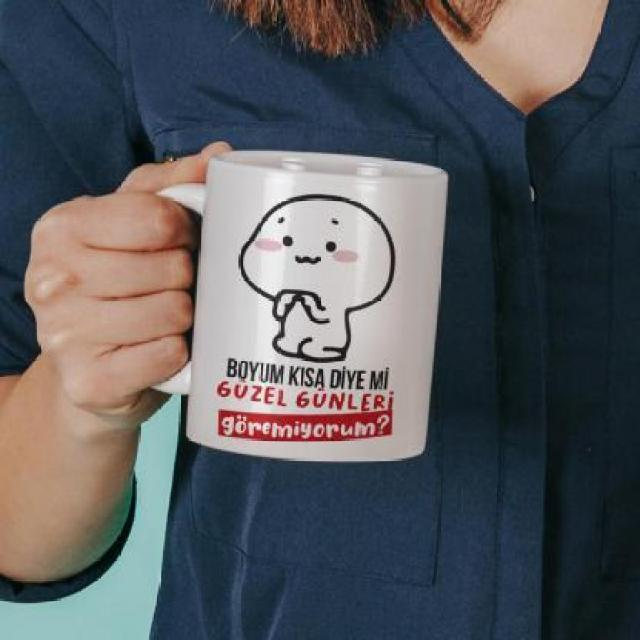taza: (126, 133, 461, 475)
